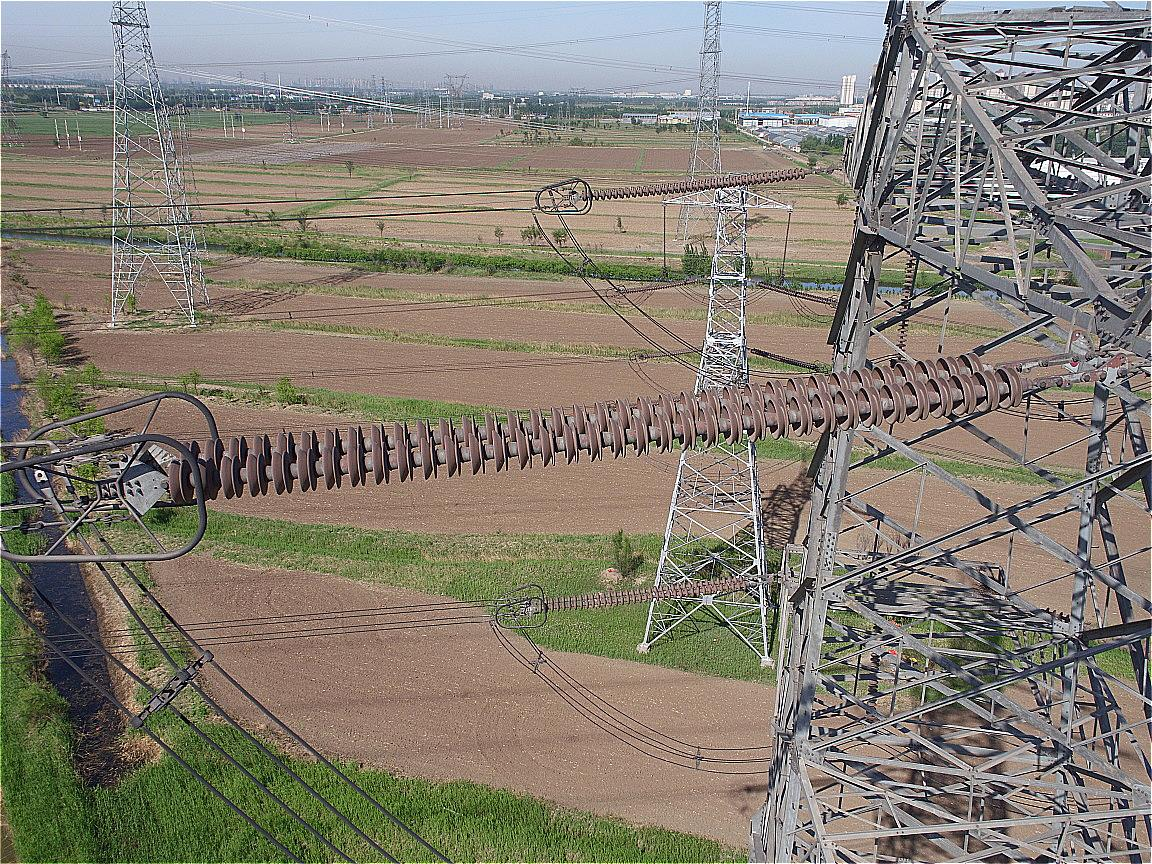insultor1: (543, 573, 750, 614), (580, 167, 806, 201)
insultor2: (171, 351, 1022, 505)
